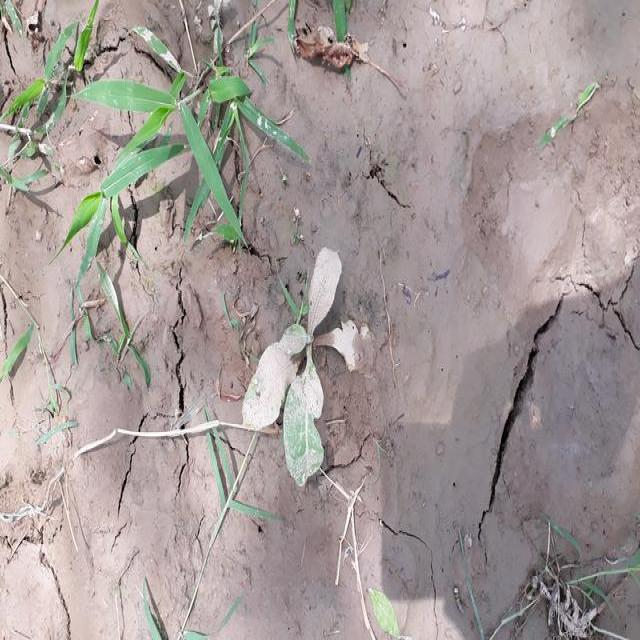crop: (242, 243, 372, 479)
